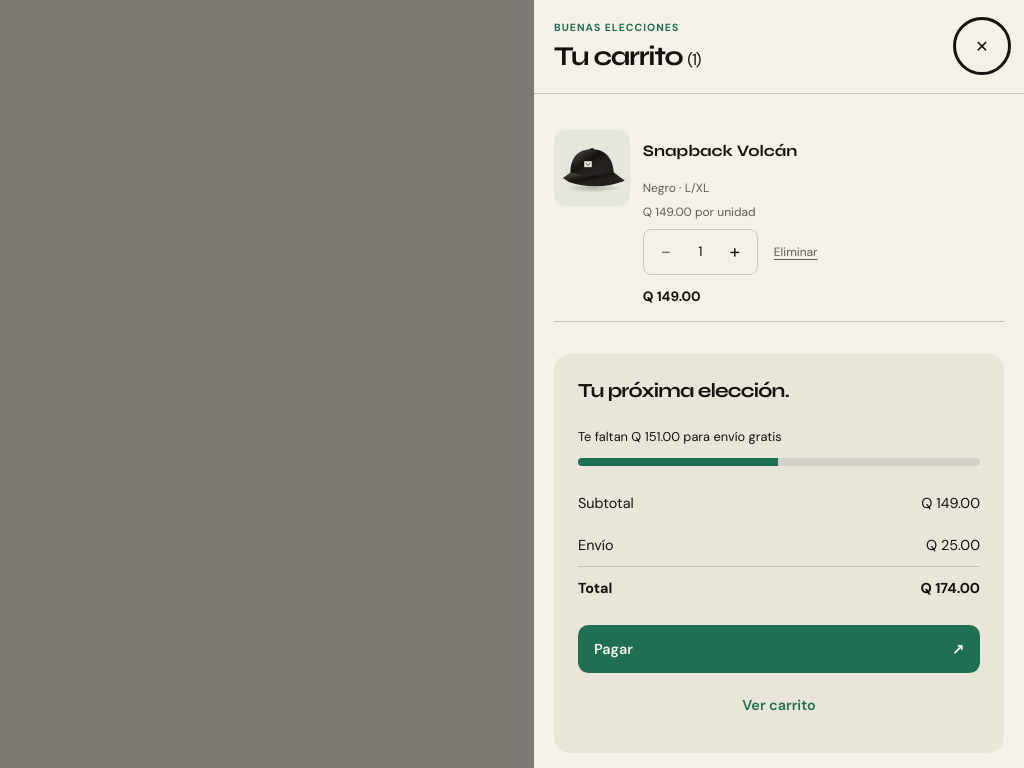
Test case: CartDrawer muestra el artículo y el total y permite eliminarlo
Expected: the link "Snapback Volcán" is shown, [643, 141, 797, 160]
Expected: the text "Q 174.00" is shown, [920, 580, 980, 598]
Click the button with aria-label "Eliminar Snapback Volcán": (796, 252) [766, 230, 826, 274]
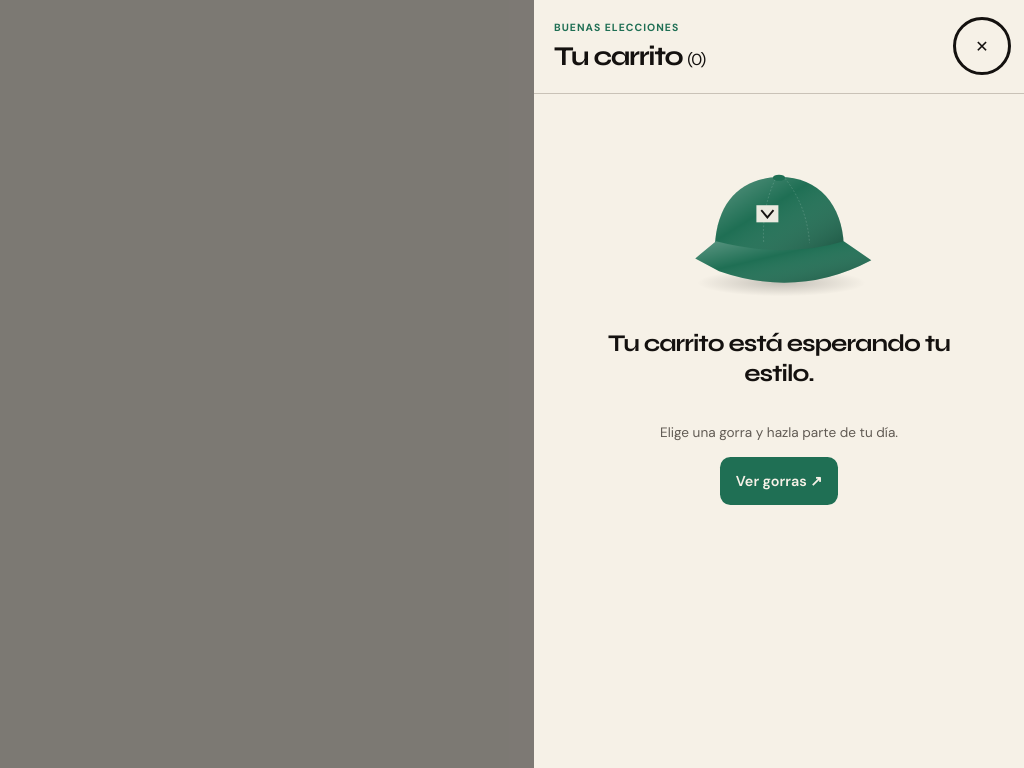
Result: the heading "Tu carrito está esperando tu estilo." is shown at [604, 328, 954, 388]
